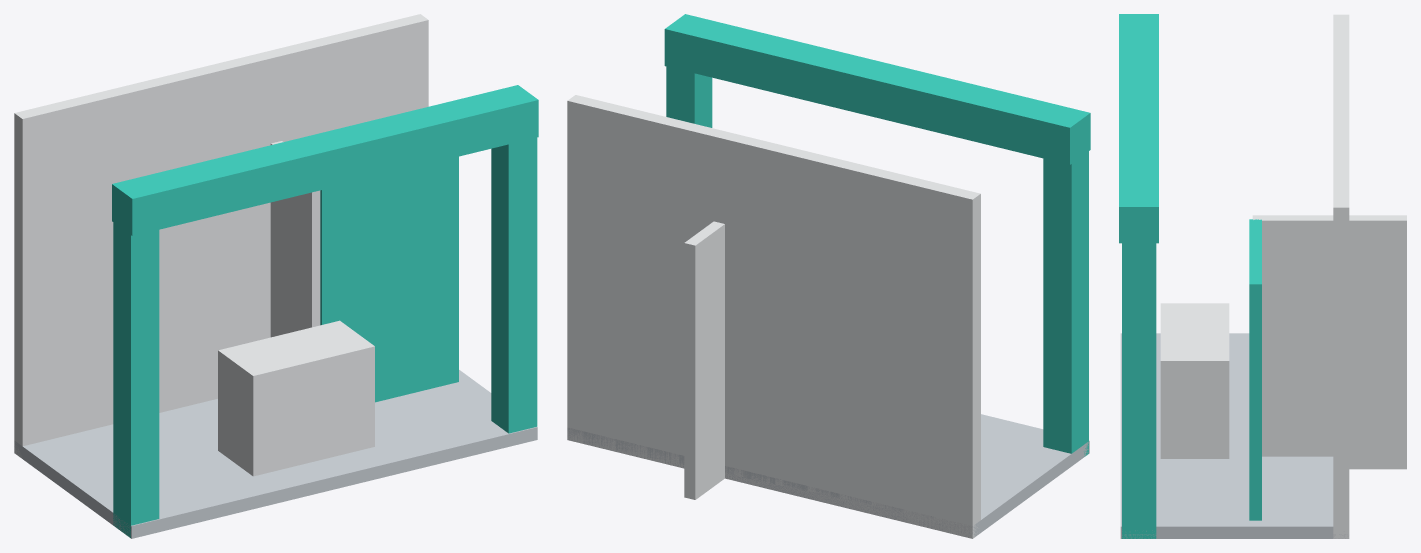
3 views of the same model, side by side, from view 1: azimuth 30°, elevation 25°; view 2: azimuth 150°, elevation 25°; view 3: azimuth 270°, elevation 25° (orthographic). The views are drawn at different scales.
Visible parts, largest first — view 1: Exhibition Booth Concept; view 2: Exhibition Booth Concept; view 3: Exhibition Booth Concept.
Part boxes in pixels (<box>): Exhibition Booth Concept: <box>14,14,538,538</box>; Exhibition Booth Concept: <box>567,14,1090,538</box>; Exhibition Booth Concept: <box>1119,14,1406,538</box>.
Bounding box in the file's own units: 4 × 3.2 × 2.52.
